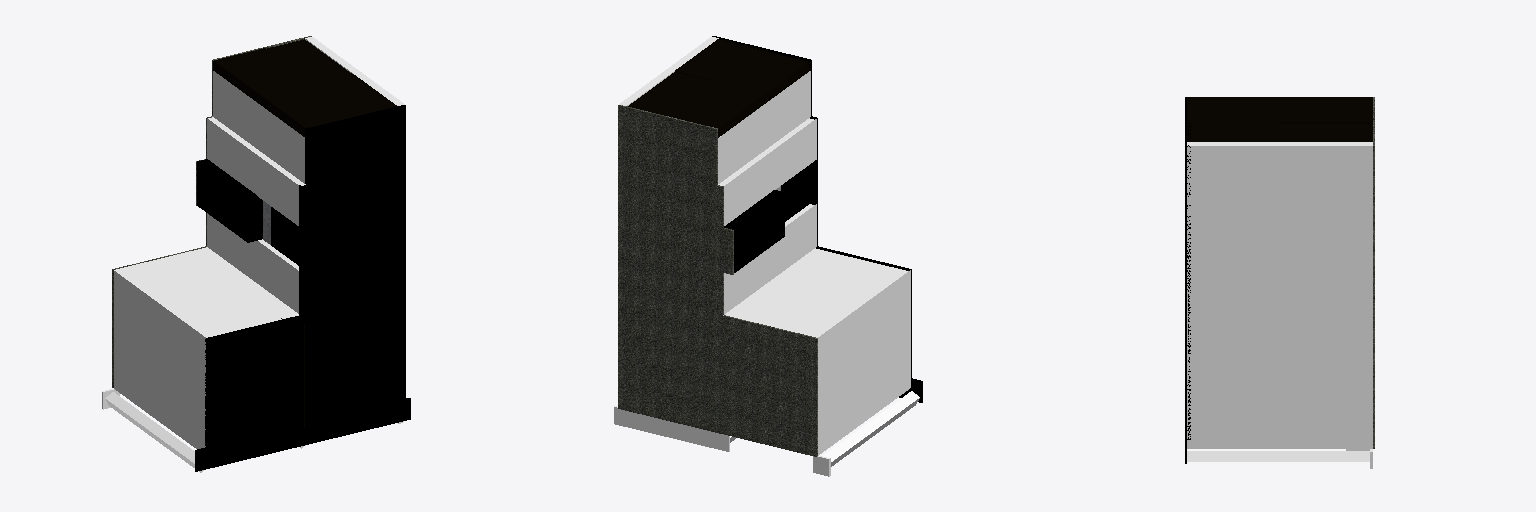
3 views of the same model, side by side, from view 1: azimuth 30°, elevation 25°; view 2: azimuth 150°, elevation 25°; view 3: azimuth 270°, elevation 25° (orthographic).
Visible parts, largest first — view 1: object_111, object_77, object_106, object_46, object_110, object_47, object_82, object_107, object_83, object_1, object_108, object_104 (+2 smaller); view 2: object_87, object_77, object_106, object_46, object_47, object_82, object_107, object_83, object_1, object_108, object_69, object_111 (+2 smaller); view 3: object_68, object_106, object_98, object_107, object_111, object_87, object_108.
Boxes of the visible parts, <box> form: object_111: <box>205,105,405,447</box>; object_77: <box>114,213,298,448</box>; object_106: <box>219,48,396,126</box>; object_46: <box>207,109,305,225</box>; object_110: <box>195,398,410,471</box>; object_47: <box>197,159,262,242</box>; object_82: <box>213,71,263,145</box>; object_107: <box>267,39,351,82</box>; object_83: <box>264,108,304,175</box>; object_1: <box>105,392,203,472</box>; object_108: <box>213,59,310,136</box>; object_104: <box>271,207,298,265</box>; object_87: <box>618,105,817,456</box>; object_77: <box>724,204,910,455</box>; object_106: <box>667,39,803,126</box>; object_46: <box>718,109,816,225</box>; object_47: <box>724,190,784,272</box>; object_82: <box>718,102,767,176</box>; object_107: <box>628,72,712,115</box>; object_83: <box>768,71,810,139</box>; object_1: <box>815,391,919,468</box>; object_108: <box>714,59,810,137</box>; object_69: <box>631,412,711,447</box>; object_111: <box>712,36,911,377</box>; object_68: <box>1187,142,1372,448</box>; object_106: <box>1187,100,1372,141</box>; object_98: <box>1187,451,1369,461</box>; object_107: <box>1276,124,1372,141</box>; object_111: <box>1185,97,1190,439</box>; object_87: <box>1373,97,1374,448</box>; object_108: <box>1187,97,1372,99</box>.
Size of the model in its own units: 216 by 307 by 165.
Materials: 16 (5 with a texture image).